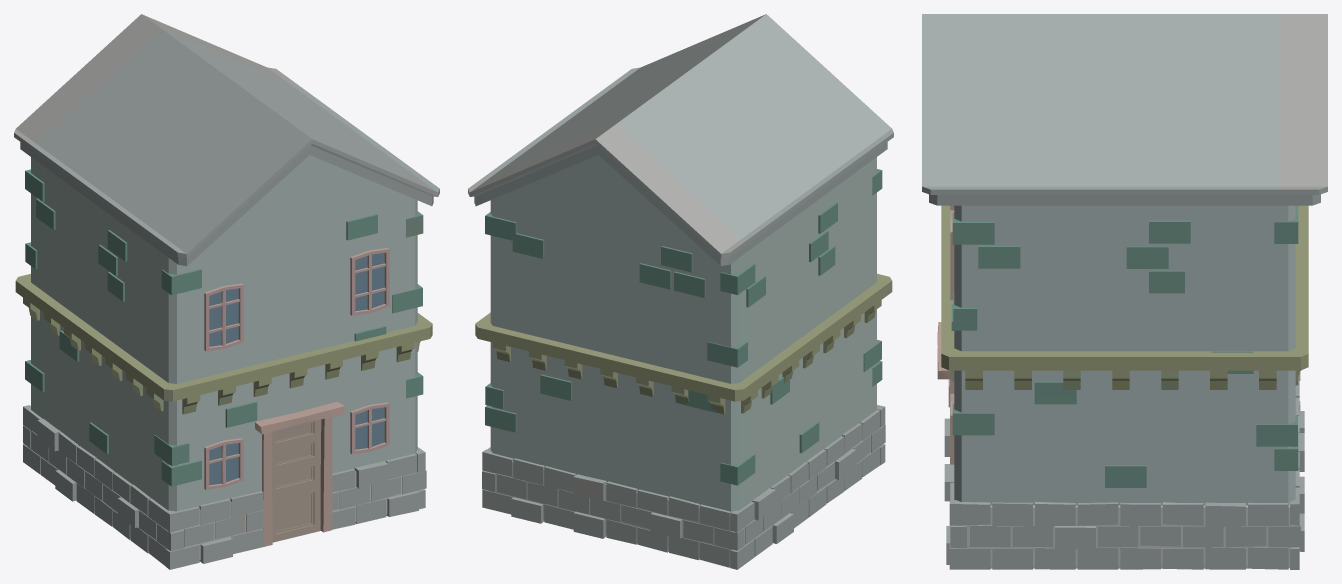
The model's file is cottage-two.glb.
The picture shows the model from 3 angles, left to right: view 1: azimuth 30°, elevation 25°; view 2: azimuth 150°, elevation 25°; view 3: azimuth 270°, elevation 25°; orthographic projection. The views are drawn at different scales.
Parts seen in each view (by area): view 1: 2Story_GableRoof; view 2: 2Story_GableRoof; view 3: 2Story_GableRoof.
Part boxes in pixels (x1,y1,x2,y2): 2Story_GableRoof: (14, 14, 439, 569); 2Story_GableRoof: (468, 14, 893, 569); 2Story_GableRoof: (922, 14, 1327, 569).
Size of the model in its own units: 0.9069 by 1.32 by 1.
1 material, 1 textured.
